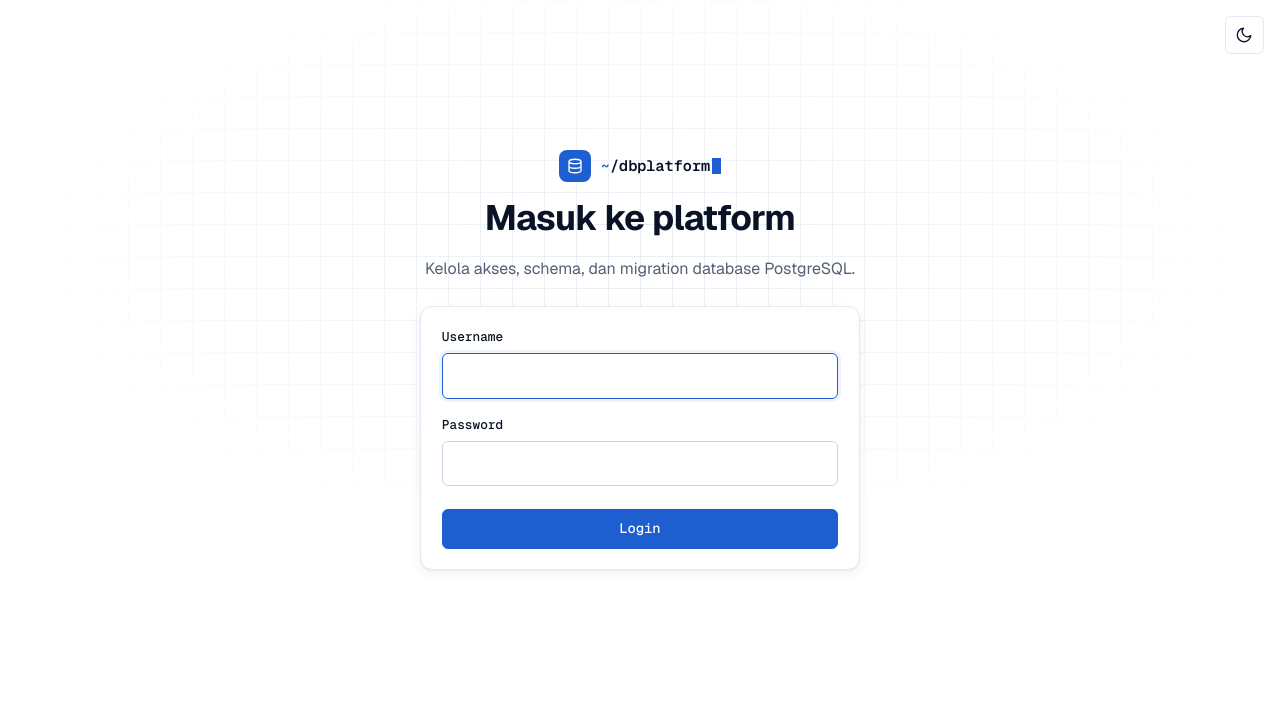
Test: login › error validasi ditampilkan di field-nya
The width and height of the screenshot is (1280, 720).
expect the field labelled "Username" is shown: met, box [442,353,838,399]
Step 1. Click the button "Login" → (640, 529), box [442,509,838,549]
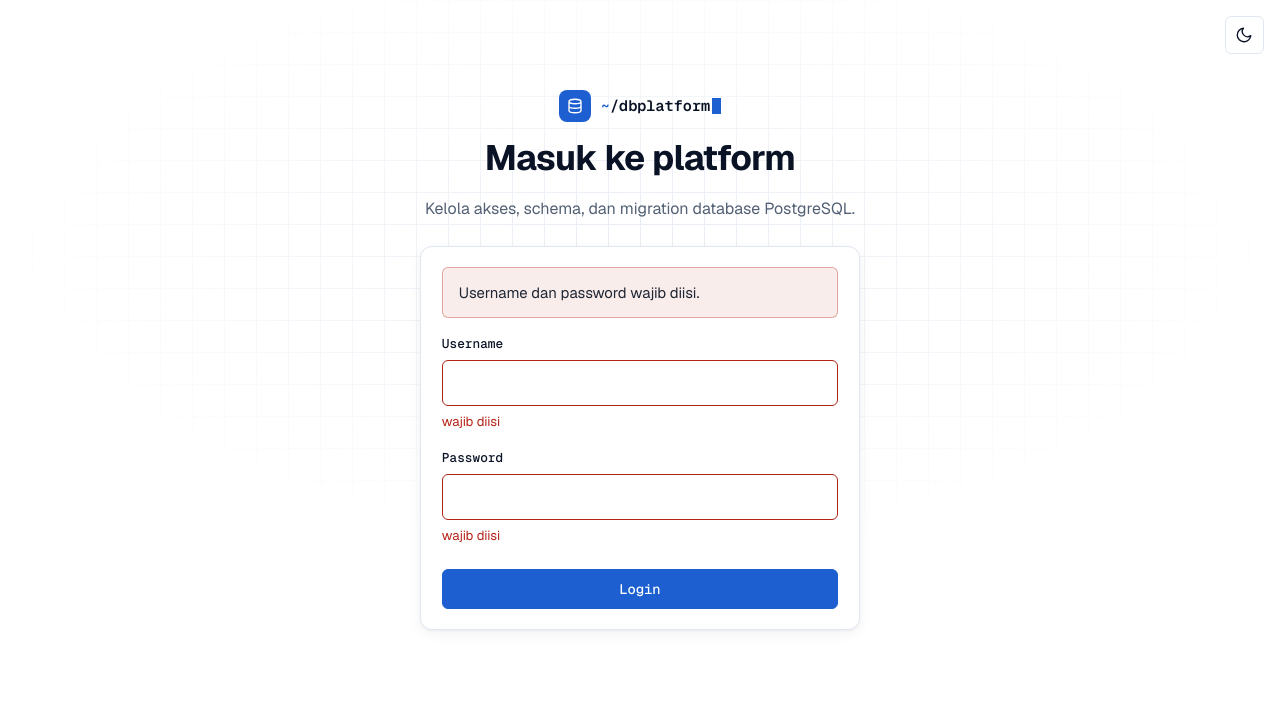
expect the message "Username dan password wajib diisi." is shown: met, box [442,267,838,318]
expect the text "wajib diisi" is shown 2 times: met, box [442,413,500,430]; [442,528,500,544]
